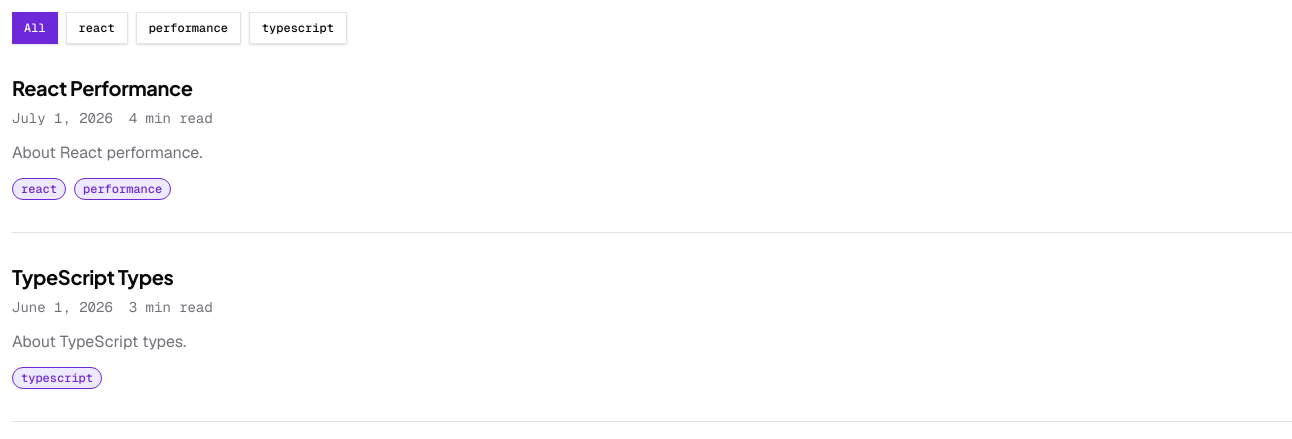
Test case: TagFilter › updates visible posts without a page load when tag is changed
The width and height of the screenshot is (1292, 439).
Click the button "typescript" at (298, 28), box x1=249 y1=12 x2=347 y2=44
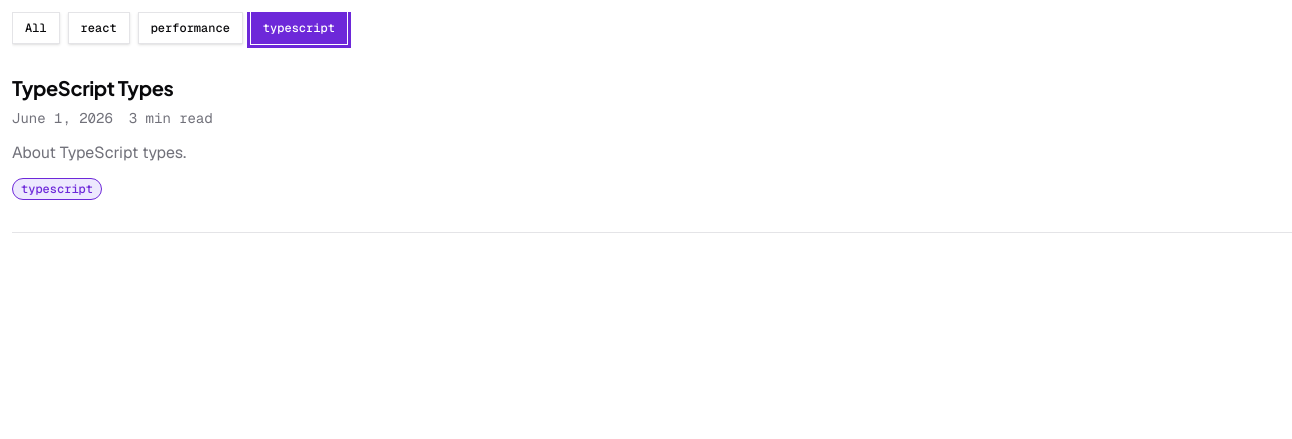
Expected: the heading "TypeScript Types" is shown, x1=12 y1=75 x2=174 y2=100
Click the button "All" at (36, 28), box x1=12 y1=12 x2=60 y2=44
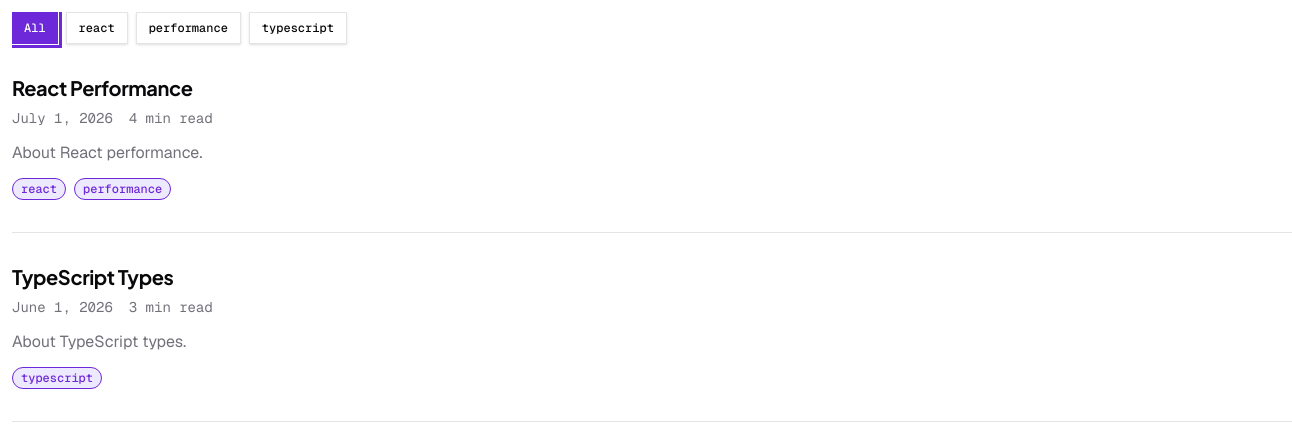
Expected: the heading "TypeScript Types" is shown, x1=12 y1=264 x2=174 y2=289
Now the heading "React Performance" is shown, box x1=12 y1=75 x2=193 y2=100
